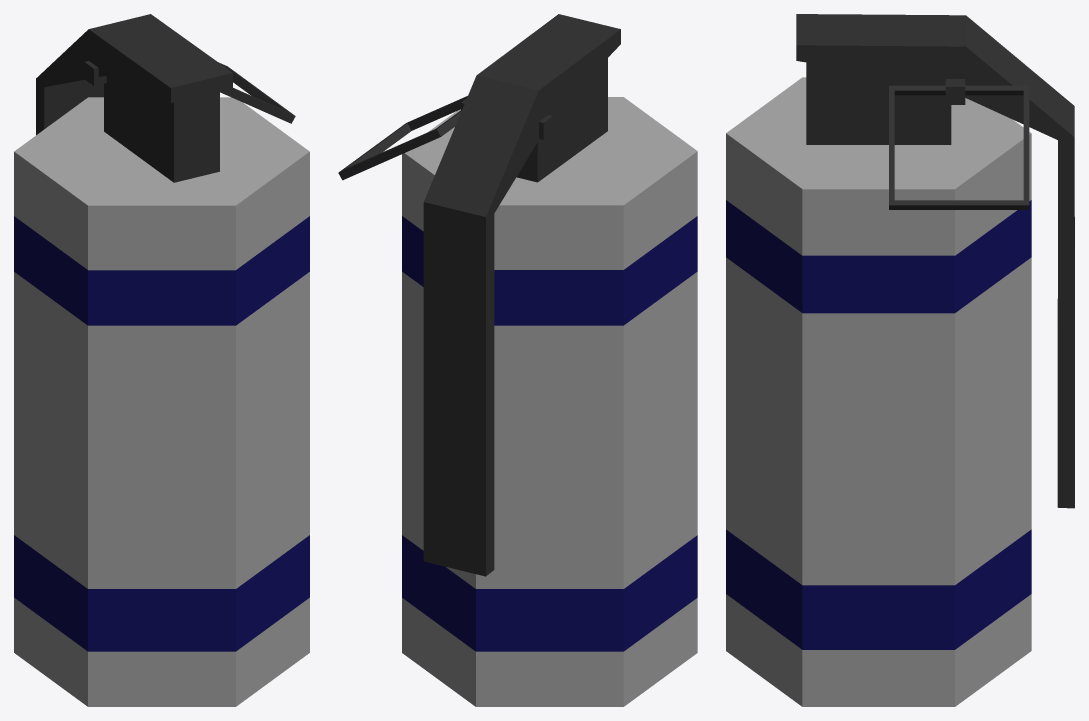
File: Grenade_Teargas.fbx
3 renders of one model, left to right at view 1: azimuth 30°, elevation 25°; view 2: azimuth 150°, elevation 25°; view 3: azimuth 270°, elevation 25°, orthographic. The views are drawn at different scales.
Visible parts, largest first — view 1: Grenade_Teargas; view 2: Grenade_Teargas; view 3: Grenade_Teargas.
Boxes of the visible parts, x1,y1,x2,y2 form: Grenade_Teargas: (14, 14, 309, 706); Grenade_Teargas: (338, 14, 697, 706); Grenade_Teargas: (726, 14, 1074, 706).
Bounding box in the file's own units: 5.41 × 12.46 × 6.34.
